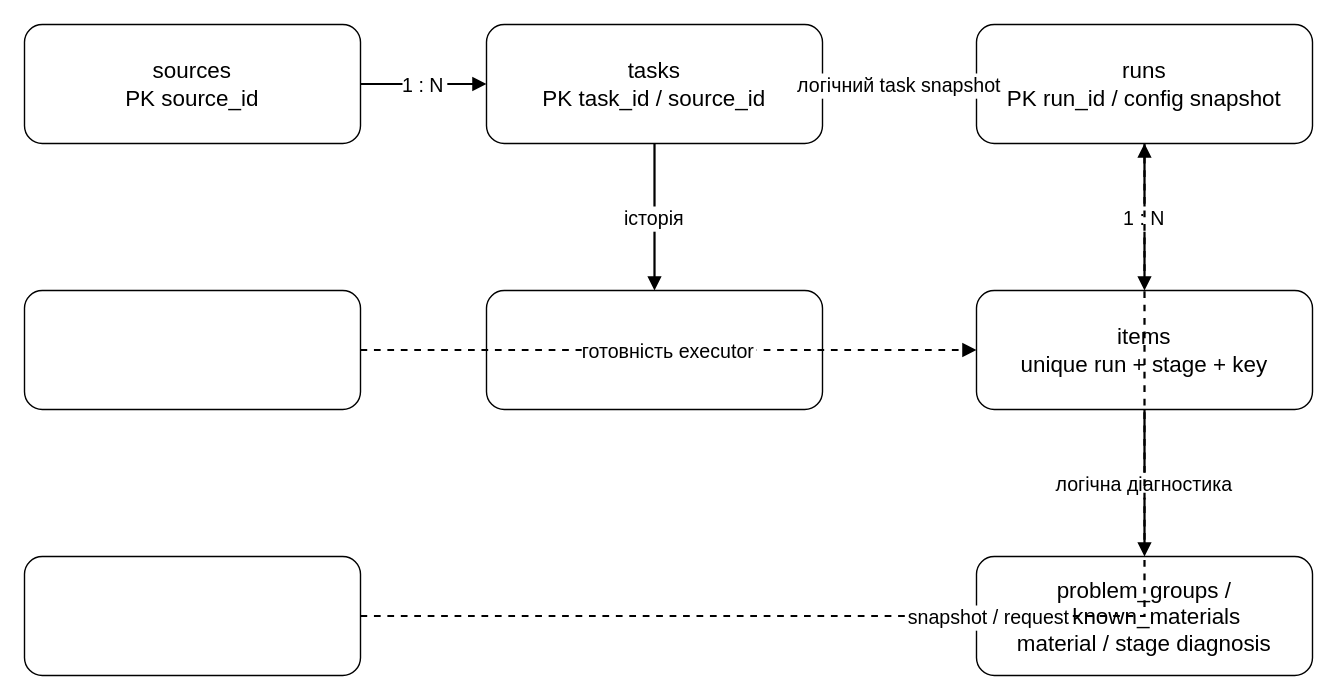
This 1337x700 diagram has some shape labels left out. Here are the shapes that lost their labels. From the top down, the box of each, then its label:
(23, 289, 360, 410): connections / connection_sync executor / status
(485, 289, 822, 410): activations / audit_events actor / previous package
(23, 555, 360, 676): platform_limits / idempotency_keys
